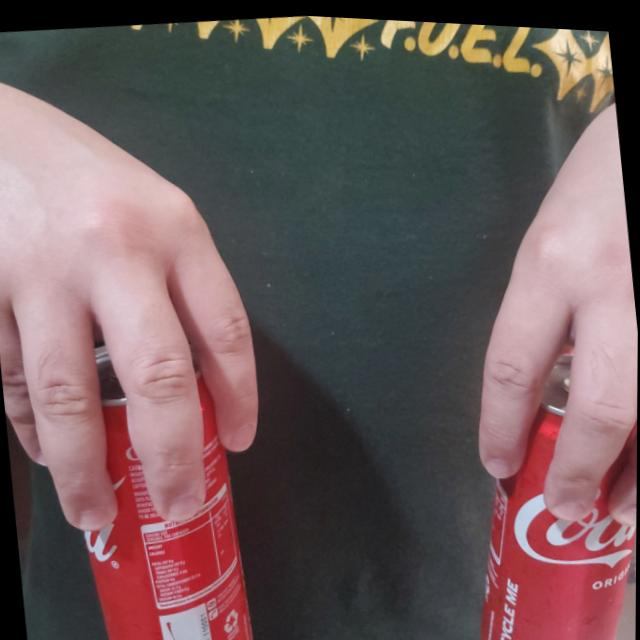coke: (60, 336, 259, 640), (449, 345, 638, 640)
